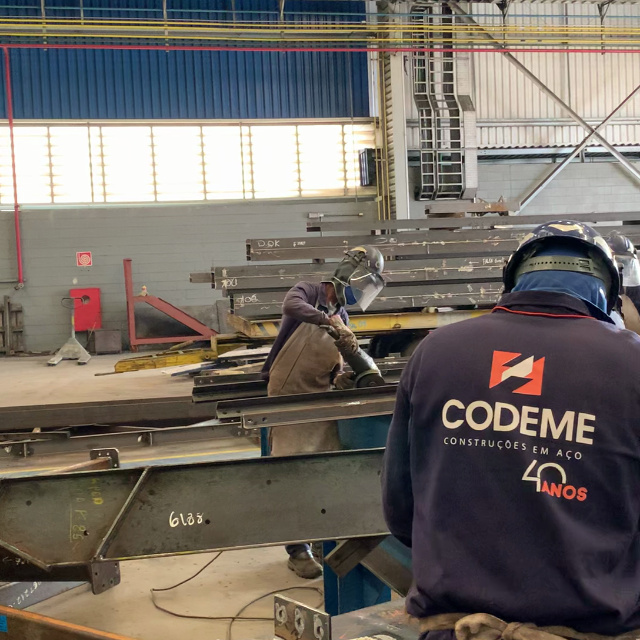face-shield: (346, 256, 387, 314)
glove: (320, 313, 361, 362)
helmet: (503, 221, 622, 310), (344, 246, 385, 275)
person: (381, 221, 640, 634), (265, 243, 396, 385)
safety-shoe: (287, 548, 322, 581)
